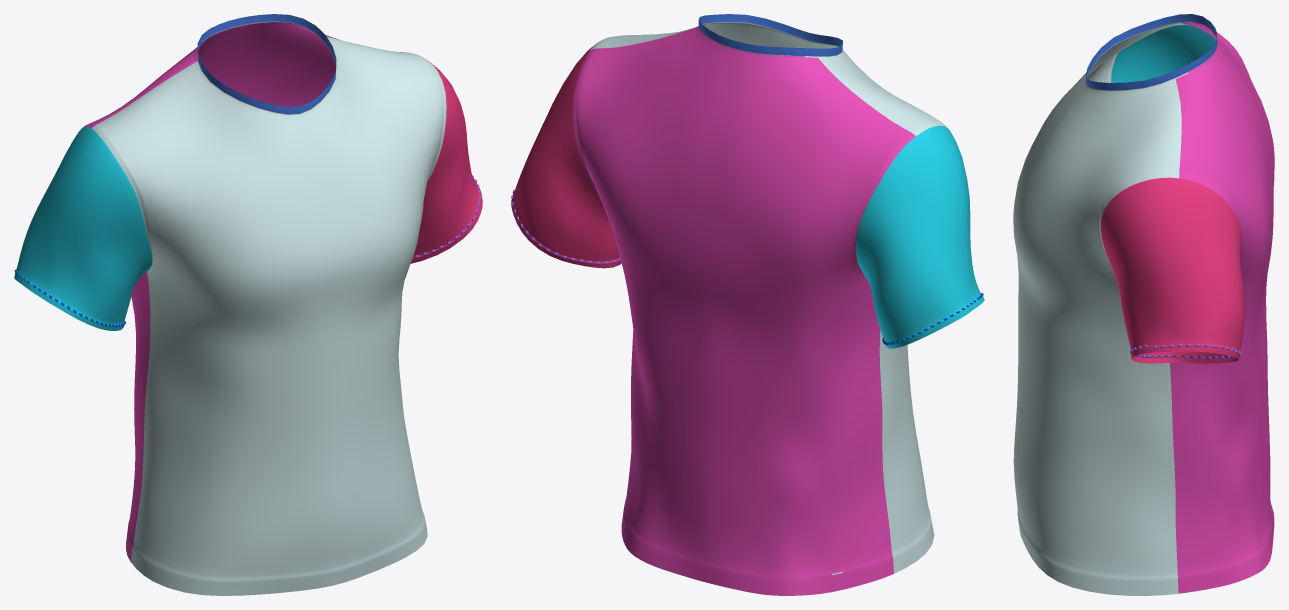
The picture shows the model from 3 angles, left to right: view 1: azimuth 30°, elevation 25°; view 2: azimuth 150°, elevation 25°; view 3: azimuth 270°, elevation 25°; orthographic projection. The views are drawn at different scales.
Visible parts, largest first — view 1: T-shirt; view 2: T-shirt; view 3: T-shirt, left-stitch.
Part boxes in pixels (x1,y1,x2,y2): T-shirt: (14, 14, 482, 595); T-shirt: (511, 14, 984, 595); T-shirt: (1013, 14, 1274, 595); left-stitch: (1129, 343, 1241, 359).
Bounding box in the file's own units: 1.01 × 1.09 × 0.5179.
